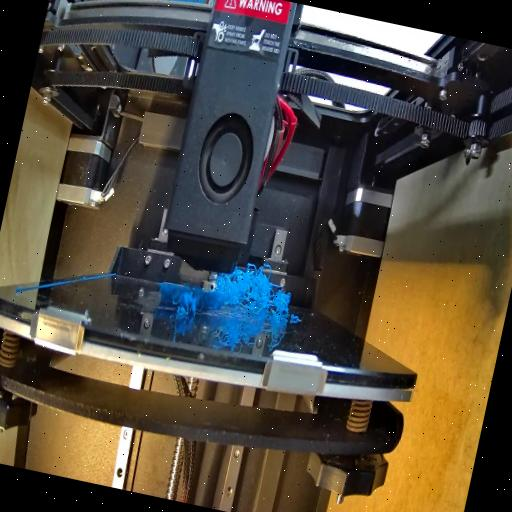spaghetti: (209, 264, 296, 318), (164, 278, 208, 326)
